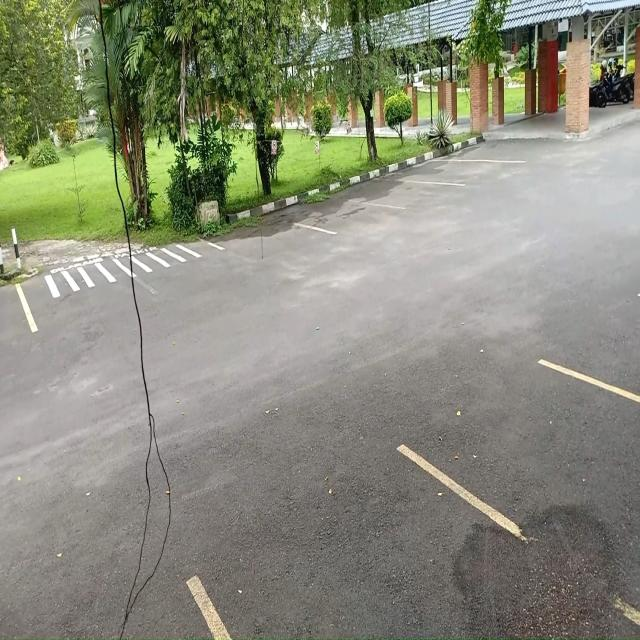empty: (202, 467, 511, 639), (511, 366, 640, 582), (299, 190, 367, 235), (354, 178, 438, 209), (410, 158, 498, 186)
